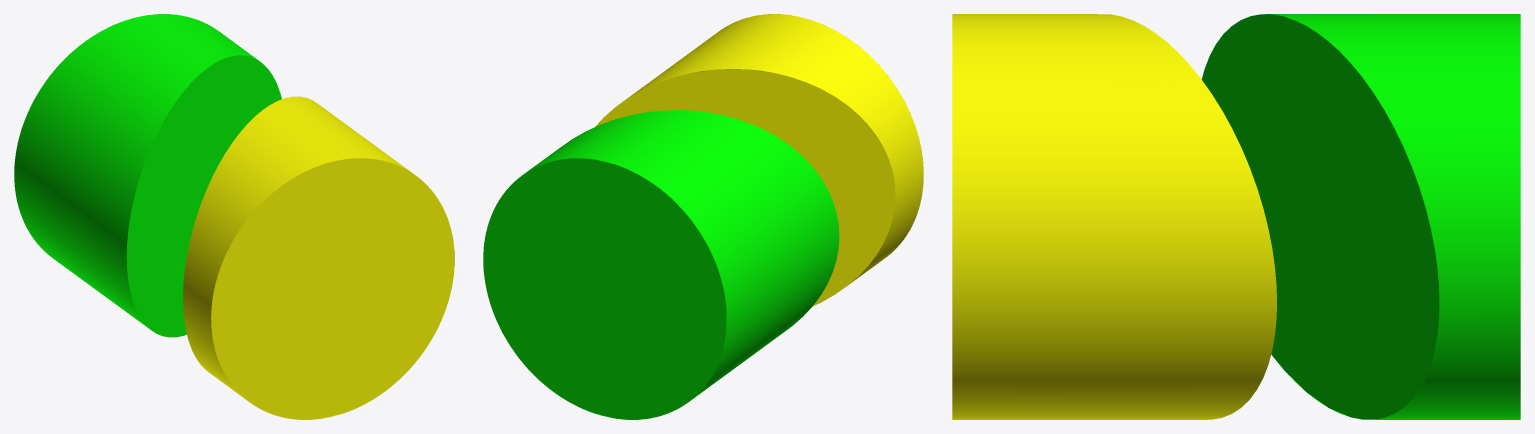
File: yuanzhuxiejie_jieduan.FBX
3 renders of one model, left to right at view 1: azimuth 30°, elevation 25°; view 2: azimuth 150°, elevation 25°; view 3: azimuth 270°, elevation 25°, orthographic. The views are drawn at different scales.
Visible parts, largest first — view 1: TRM_SRF (×6); view 2: TRM_SRF (×6); view 3: TRM_SRF (×5).
Part boxes in pixels (bbox=[...]): TRM_SRF (×6): bbox=[14, 14, 454, 419]; TRM_SRF (×6): bbox=[483, 14, 923, 419]; TRM_SRF (×5): bbox=[952, 14, 1520, 419].
Size of the model in its own units: 39.37 by 39.37 by 55.12.
